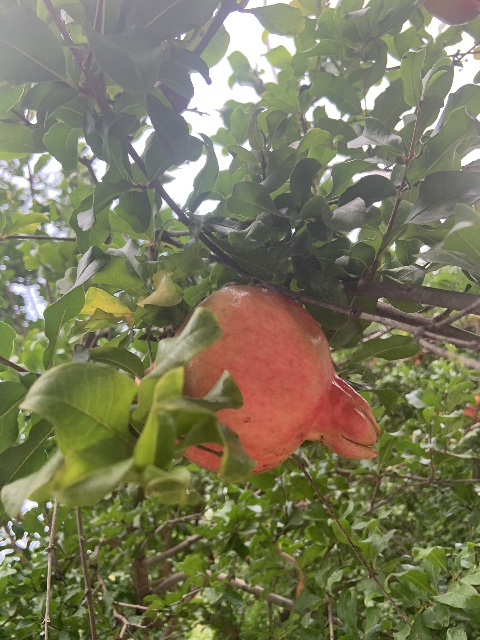ripe: (173, 286, 379, 473)
